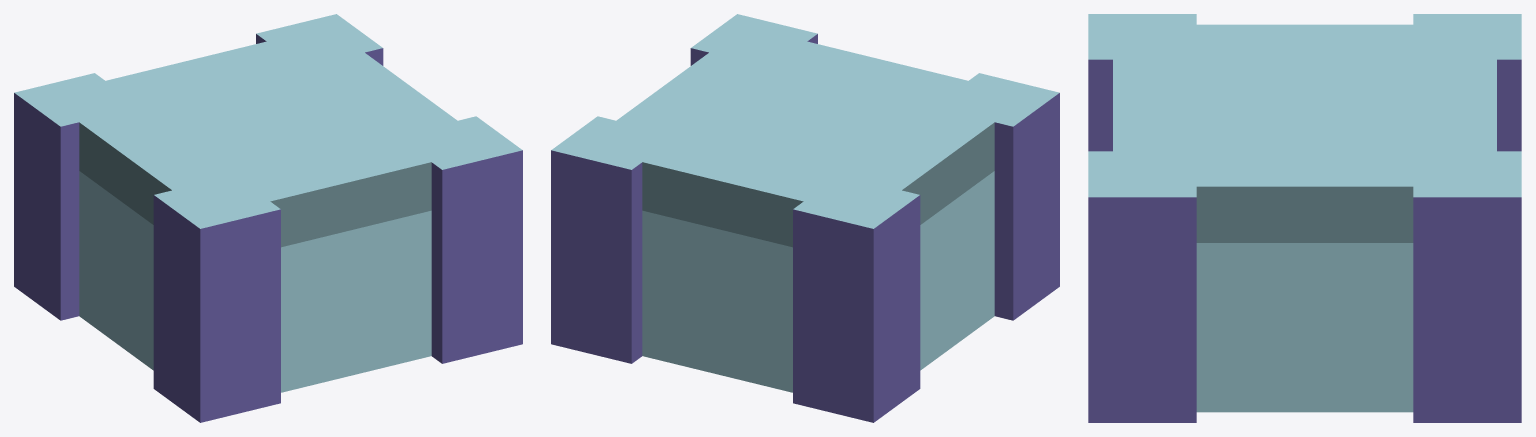
Rendered from towerSquare_middleB.dae.
The picture shows the model from 3 angles, left to right: view 1: azimuth 30°, elevation 25°; view 2: azimuth 150°, elevation 25°; view 3: azimuth 270°, elevation 25°; orthographic projection. The views are drawn at different scales.
Visible parts, largest first — view 1: towerSquare_middleB; view 2: towerSquare_middleB; view 3: towerSquare_middleB.
Boxes of the visible parts, bbox=[...] form: towerSquare_middleB: bbox=[14, 14, 522, 422]; towerSquare_middleB: bbox=[551, 14, 1059, 422]; towerSquare_middleB: bbox=[1088, 14, 1521, 422].
Size of the model in its own units: 0.87 by 0.5 by 0.87.
